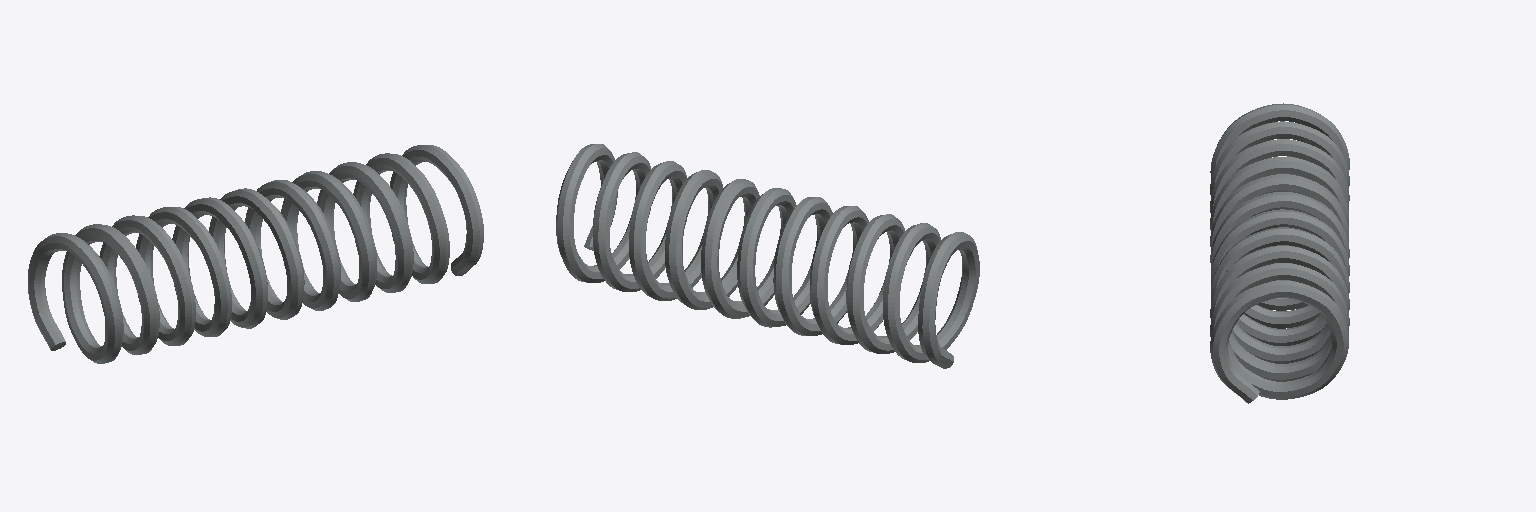
The model's file is Feder.obj.
3 renders of one model, left to right at view 1: azimuth 30°, elevation 25°; view 2: azimuth 150°, elevation 25°; view 3: azimuth 270°, elevation 25°, orthographic.
Visible parts, largest first — view 1: Feder_SpiroFit.001; view 2: Feder_SpiroFit.001; view 3: Feder_SpiroFit.001.
Boxes of the visible parts, x1,y1,x2,y2 form: Feder_SpiroFit.001: [28, 145, 483, 363]; Feder_SpiroFit.001: [556, 144, 979, 368]; Feder_SpiroFit.001: [1210, 103, 1349, 403].
Bounding box in the file's own units: 0.0227 × 0.007 × 0.007.